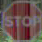Stop: (3, 1, 38, 41)
